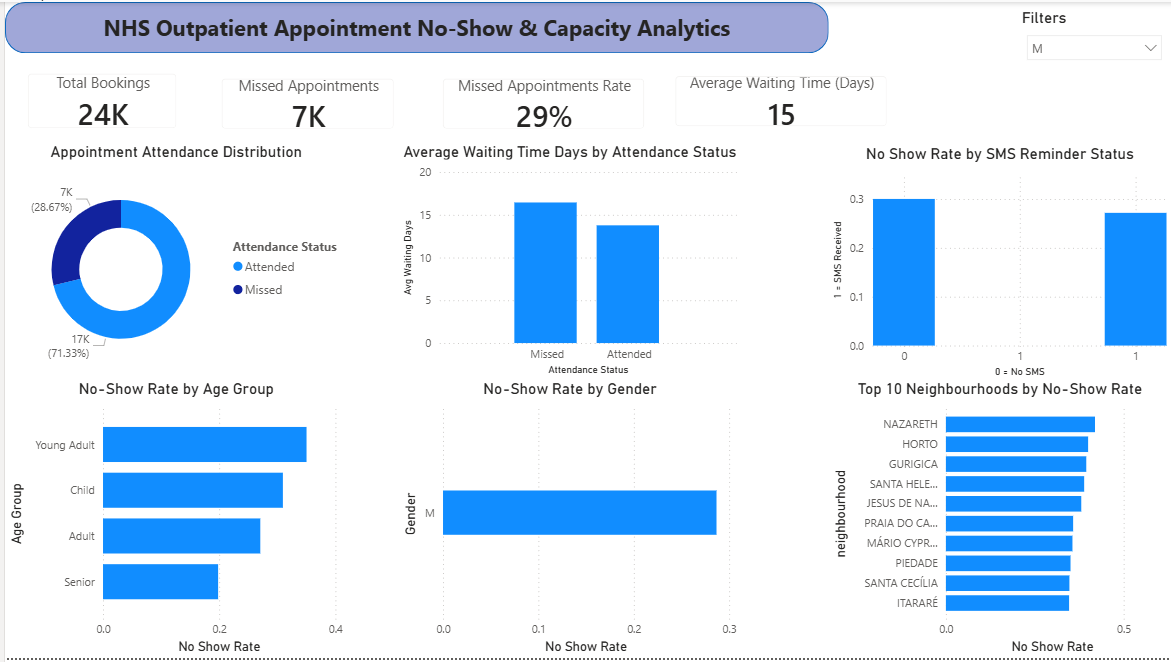

Layout of this report page (visuals, bound fields, positions):
{"tool":"powerbi","page":{"name":"NHS Outpatient No-Show Analytics","canvas":[1280,720],"ordinal":0},"visuals":[{"type":"shape","box":[0,0,904.3,56.3],"z":0},{"type":"cardVisual","fields":{"Data":["cleaned_data.Total No Shows"]},"box":[220.6,67.2,223.7,89.2],"z":1000},{"type":"cardVisual","fields":{"Data":["cleaned_data.No Show Rate"]},"box":[463.4,67.2,255.2,89.2],"z":2000},{"type":"cardVisual","fields":{"Data":["cleaned_data.Avg Waiting Days"]},"box":[718.7,64.5,266.2,89.2],"z":3000},{"type":"donutChart","title":"Appointment Attendance Distribution","fields":{"Category":["cleaned_data.attendance_status"],"Y":["CountNonNull(cleaned_data.appointment_id)"]},"box":[0,153.7,376,260.7],"z":4000},{"type":"textbox","box":[0,6.9,904.3,43.9],"z":5000},{"type":"cardVisual","fields":{"Data":["cleaned_data.Total Appointments"]},"box":[7.9,61.7,197.6,94.7],"z":6000},{"type":"clusteredBarChart","title":"No-Show Rate by Age Group","fields":{"Category":["cleaned_data.age_group"],"Y":["cleaned_data.No Show Rate"]},"box":[0,414.4,376,306],"z":7000},{"type":"clusteredColumnChart","title":"Average Waiting Time Days by Attendance Status","fields":{"Category":["cleaned_data.attendance_status"],"Y":["cleaned_data.Avg Waiting Days"]},"box":[432.2,153.7,376,260.7],"z":7001},{"type":"clusteredColumnChart","title":"No Show Rate by SMS Reminder Status","fields":{"Category":["cleaned_data.sms_received"],"Y":["cleaned_data.No Show Rate"]},"box":[904.3,156.4,376,260.7],"z":7002},{"type":"clusteredBarChart","title":"No-Show Rate by Gender","fields":{"Y":["cleaned_data.No Show Rate"],"Category":["cleaned_data.gender"]},"box":[432.2,414.4,376,306],"z":7003},{"type":"clusteredBarChart","title":"Top 10 Neighbourhoods by No-Show Rate","fields":{"Category":["cleaned_data.neighbourhood"],"Y":["cleaned_data.No Show Rate"]},"box":[904.3,414.4,376,306],"z":7004},{"type":"slicer","title":"Filters","fields":{"Values":["cleaned_data.gender","cleaned_data.age_group","cleaned_data.neighbourhood","cleaned_data.sms_received"]},"box":[1141.7,6.9,138.6,64.5],"z":7005}]}

Visuals, with their boxes in screenshot pixels (x1, y1, x2, y2), scaled from the page's 1280x720 canvas onto the 1171x662 screenshot:
shape: [0,0,827,52]
cardVisual - cleaned_data.Total No Shows: [202,62,406,144]
cardVisual - cleaned_data.No Show Rate: [424,62,657,144]
cardVisual - cleaned_data.Avg Waiting Days: [657,59,901,141]
"Appointment Attendance Distribution" donutChart: [0,141,344,381]
textbox: [0,6,827,47]
cardVisual - cleaned_data.Total Appointments: [7,57,188,144]
"No-Show Rate by Age Group" clusteredBarChart: [0,381,344,661]
"Average Waiting Time Days by Attendance Status" clusteredColumnChart: [395,141,739,381]
"No Show Rate by SMS Reminder Status" clusteredColumnChart: [827,144,1170,384]
"No-Show Rate by Gender" clusteredBarChart: [395,381,739,661]
"Top 10 Neighbourhoods by No-Show Rate" clusteredBarChart: [827,381,1170,661]
"Filters" slicer: [1044,6,1170,66]
